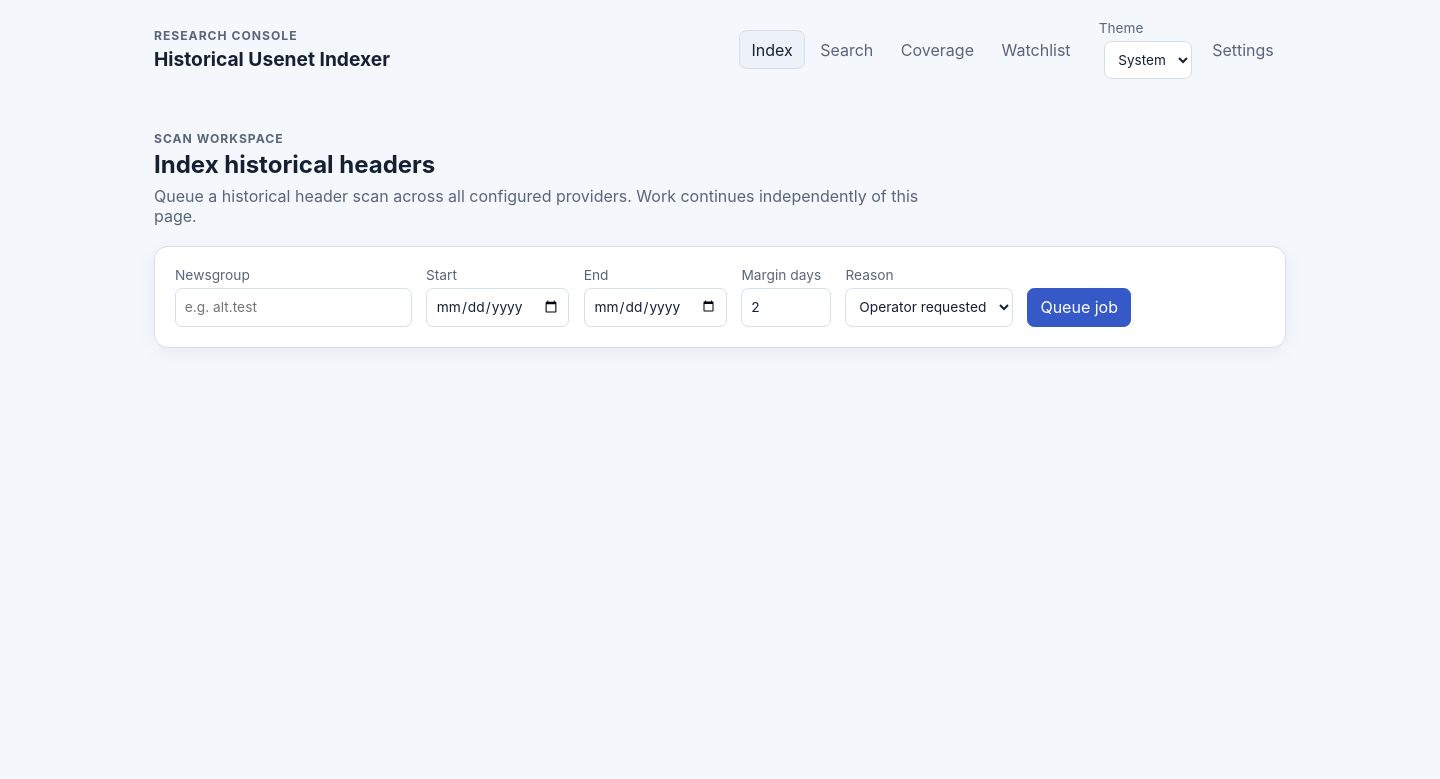
it: Coverage shows existing jobs and a partial provider failure
The image size is (1440, 779).
Click the button "Coverage": (937, 50) left=889, top=30, right=986, bottom=69
(page scrolled)
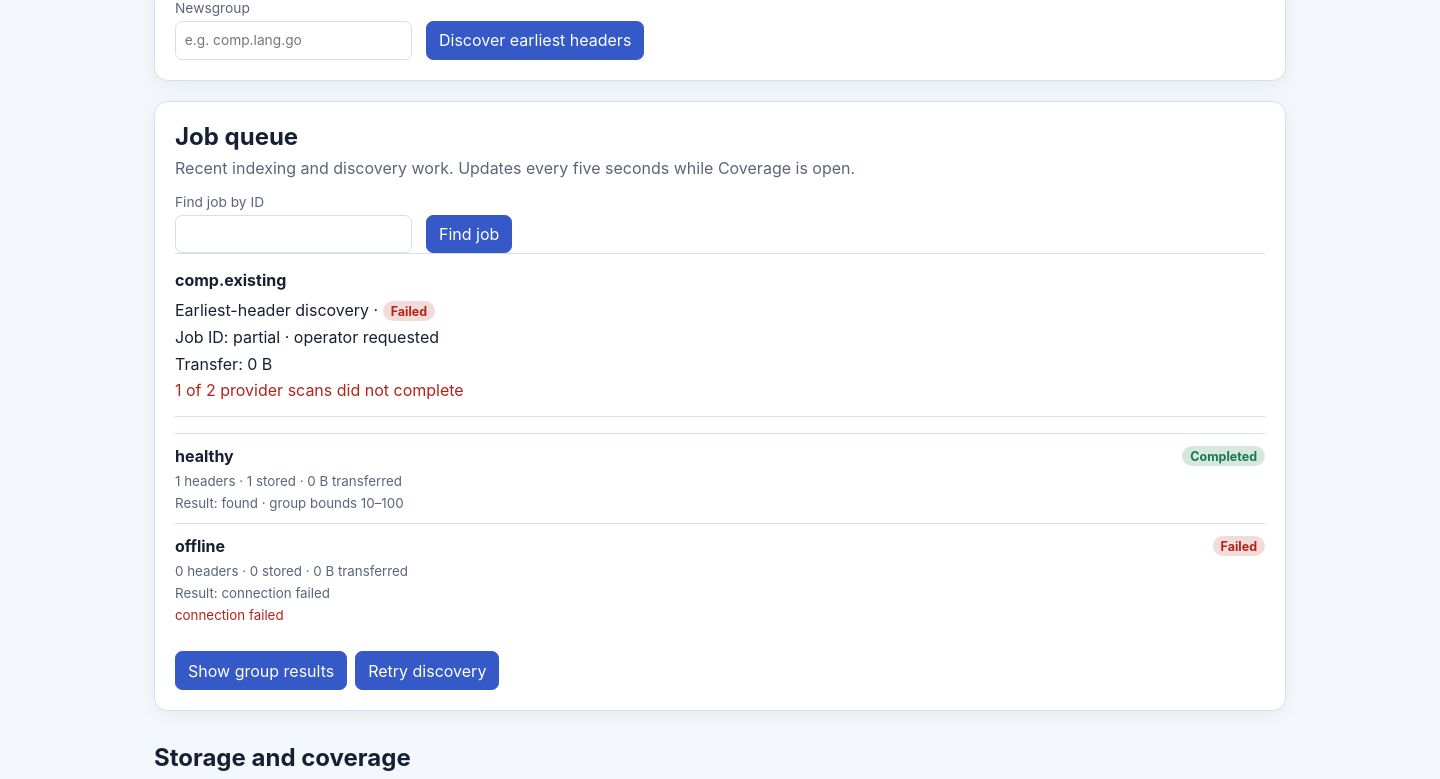
Expected: the element named "Job queue" shows "comp.existing", left=175, top=270, right=286, bottom=290
Expected: the element named "Job queue" shows "healthy", left=175, top=446, right=234, bottom=466
Expected: the element named "Job queue" shows "offline", left=175, top=536, right=225, bottom=556
